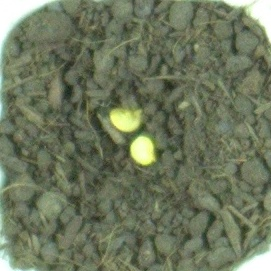chilli seed: (108, 104, 145, 133), (129, 136, 158, 168)
